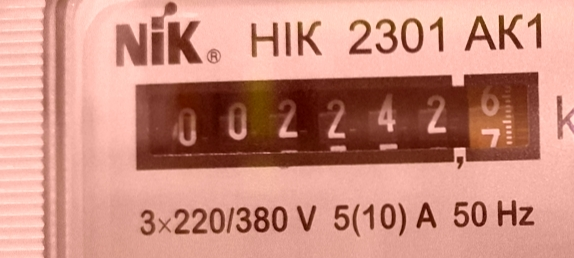0: (223, 99, 248, 141), (174, 104, 197, 149), (274, 97, 298, 140)
2: (422, 92, 447, 136), (323, 97, 347, 141)
4: (373, 91, 396, 134)
6: (476, 84, 500, 117)
7: (477, 126, 500, 149)
screen: (123, 61, 555, 185)
